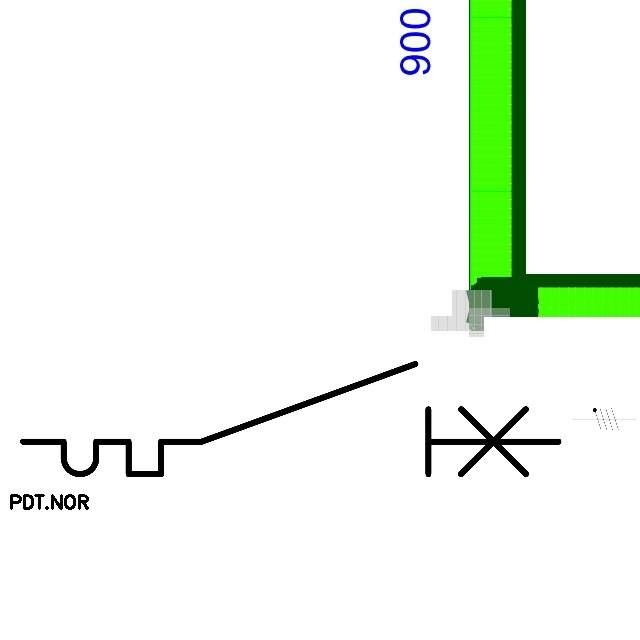interruptor_termomagnetico: (9, 350, 572, 488)
